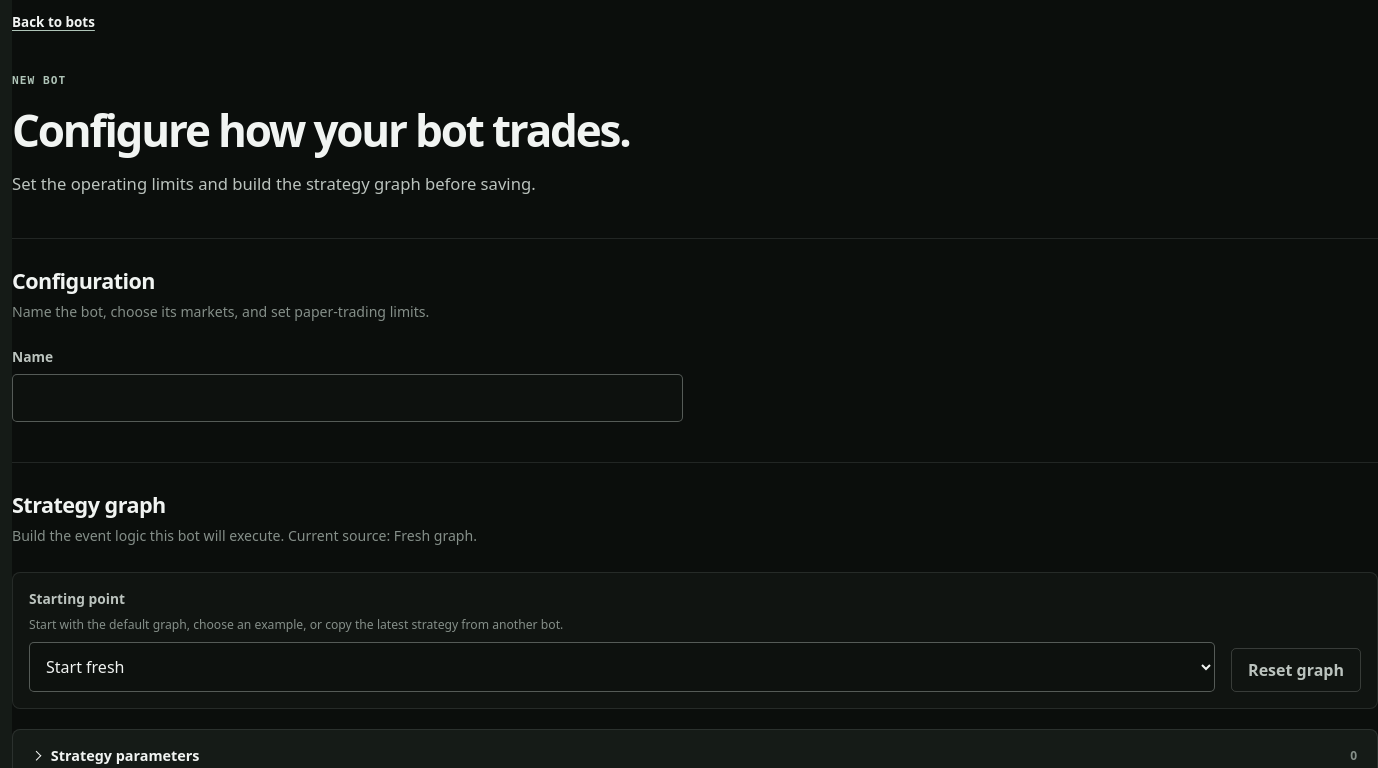
unified bot creation page › offers existing bots as graph starting points without exposing templates
Select "Source bot" in the dropdown labelled "Starting point": (622, 667) [29,642,1215,692]
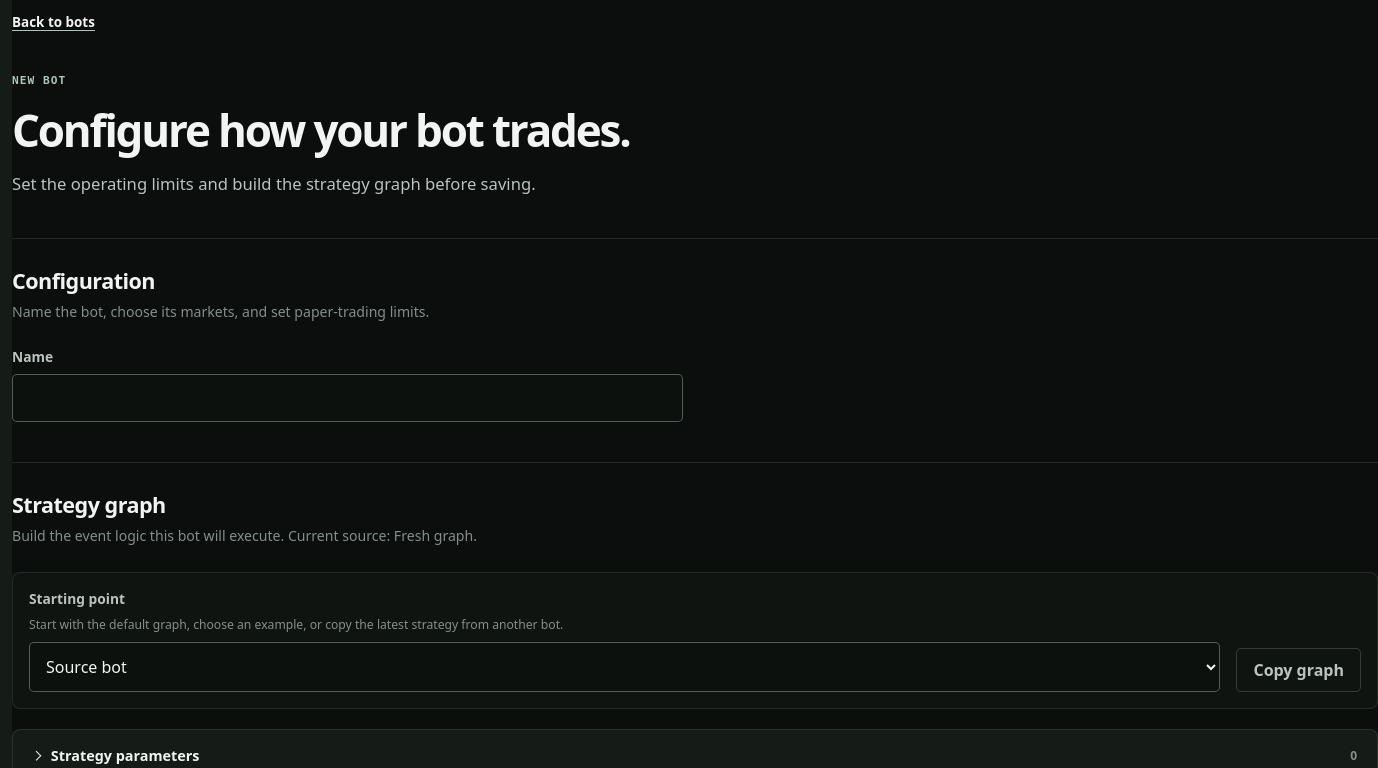
Click the button "Copy graph": (1299, 670) [1236,648,1361,692]
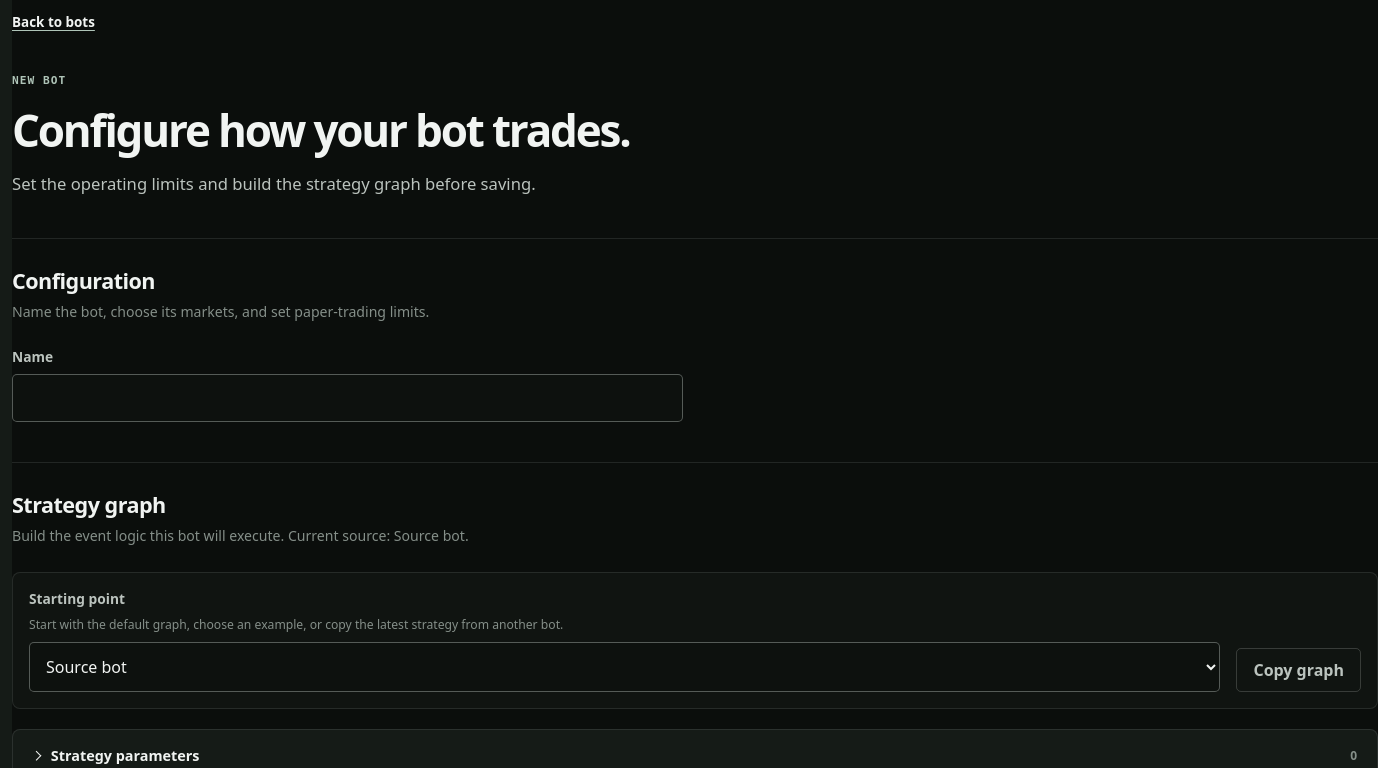
Expected: the text "Current source: Source bot" is shown, [12,526,469,545]
